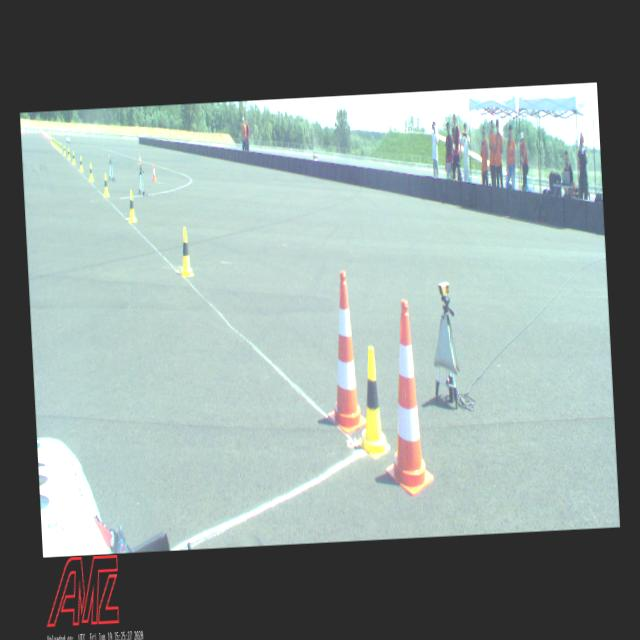large_orange_cone: (376, 299, 434, 498), (320, 270, 367, 435)
orange_cone: (152, 164, 156, 181), (139, 153, 142, 165)
yellow_cone: (354, 347, 391, 461), (178, 226, 194, 278), (128, 190, 138, 222), (102, 173, 110, 197), (88, 163, 94, 182), (78, 156, 84, 172), (72, 151, 76, 164), (67, 147, 71, 160), (63, 144, 67, 156), (59, 142, 62, 152)
